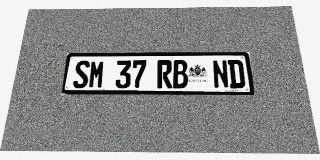3: (115, 60, 131, 88)
7: (131, 60, 147, 88)
B: (173, 60, 188, 88)
D: (227, 60, 246, 88)
M: (88, 60, 105, 88)
N: (212, 60, 229, 88)
R: (157, 60, 172, 88)
S: (73, 60, 90, 88)
